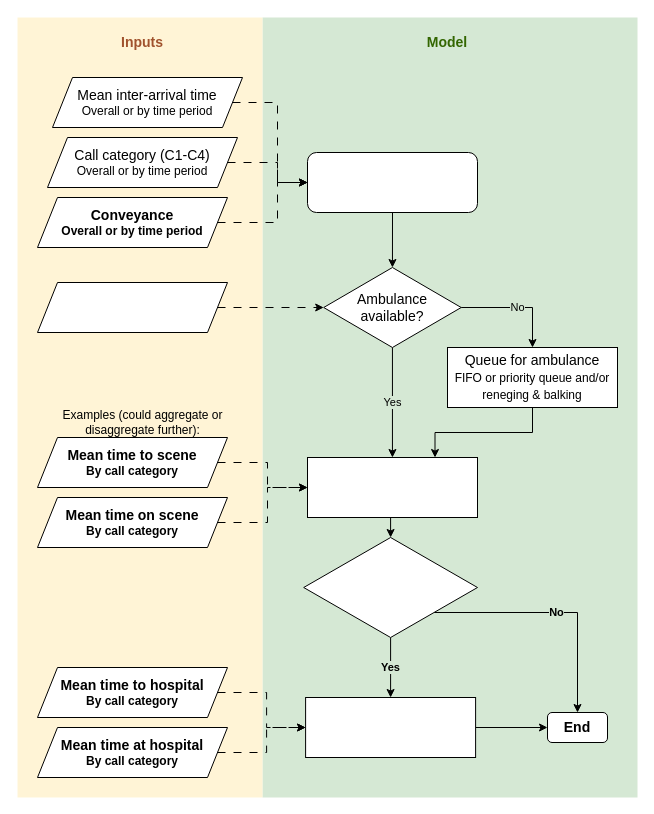
Image size: 654x814. Some labels were removed from this diagram. The box of each missing label's shape, as (x1, y1, x2, y2) in pixels:
Ambulance travel to hospital and handover patient: (305, 696, 476, 758)
Ambulance travel to scene and assess patient: (306, 456, 478, 518)
Does patient need conveyance?: (303, 536, 478, 638)
Incoming call Attributes: Category (C1-C4) and conveyance: (306, 152, 478, 212)
Number of ambulances: (36, 282, 228, 332)
